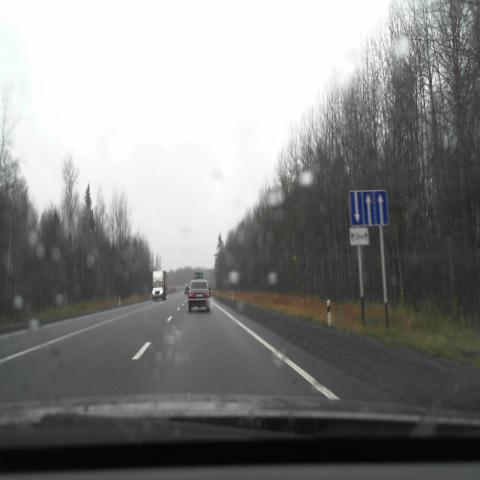5_15_7: (348, 190, 389, 226)
